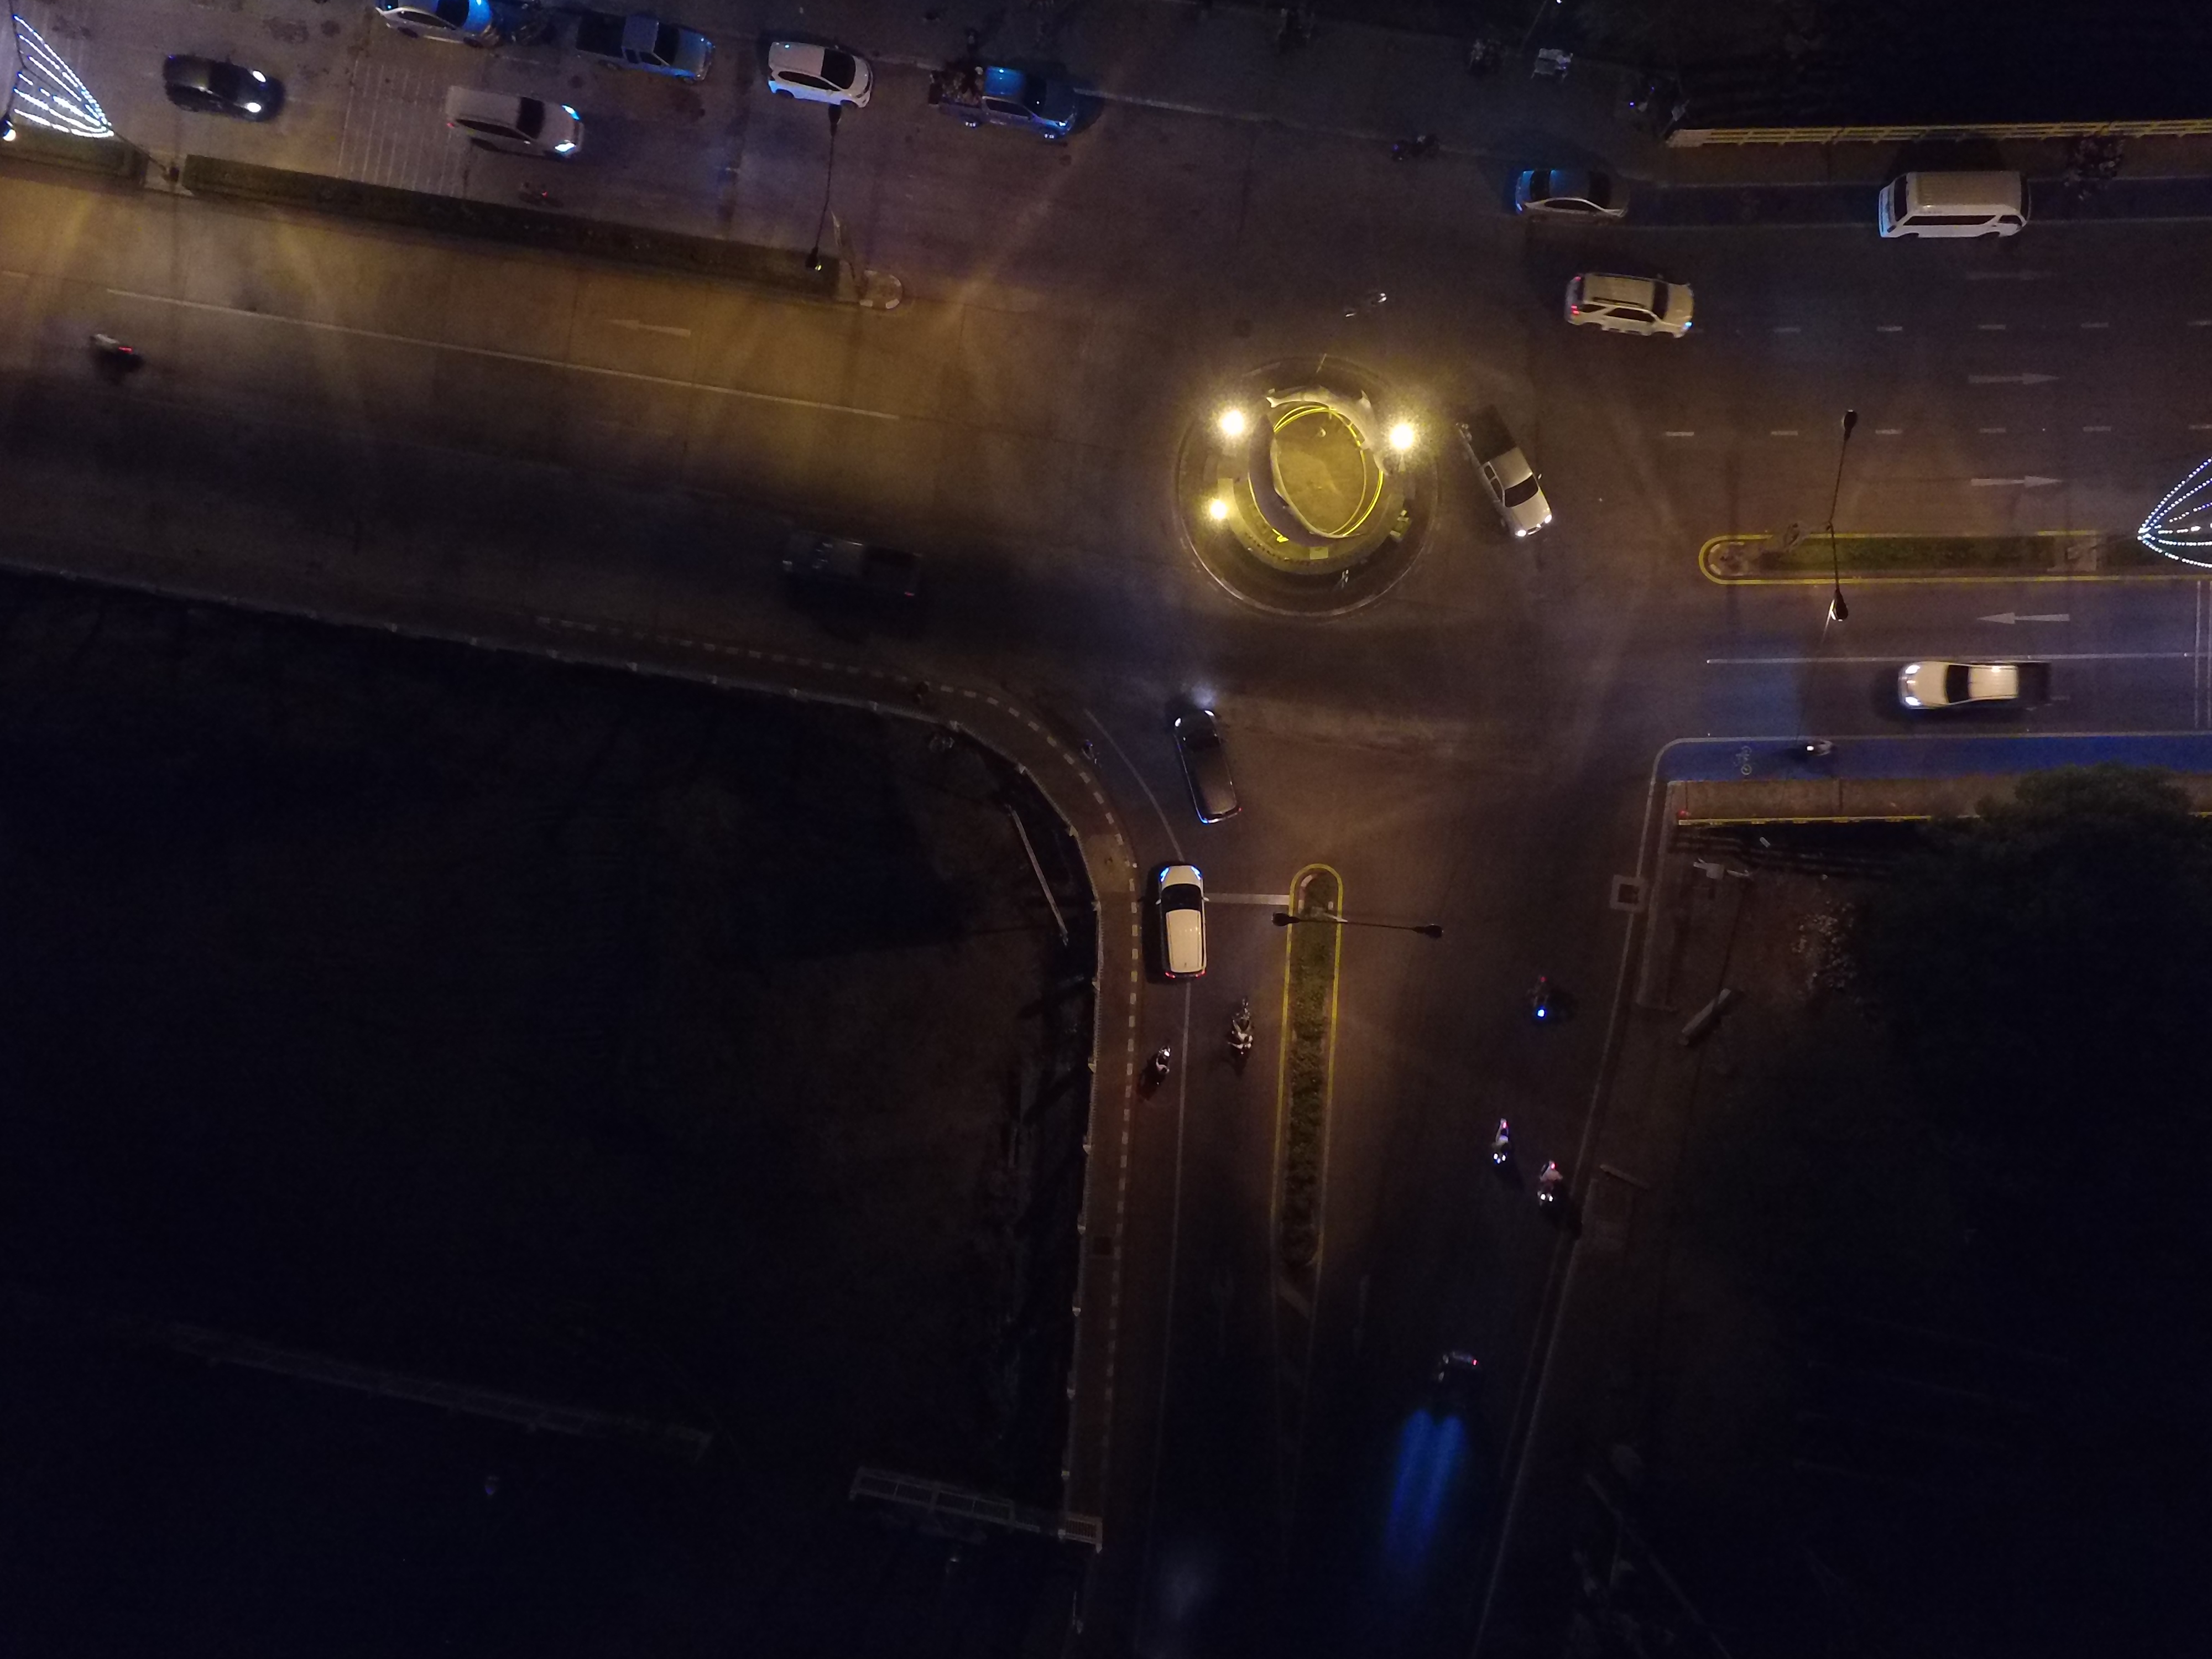car: (1437, 389, 1568, 559), (1892, 620, 2055, 730), (1876, 155, 2040, 263), (145, 38, 294, 143), (1127, 856, 1235, 1000), (1150, 687, 1258, 831), (1500, 145, 1651, 247), (935, 52, 1087, 155), (435, 75, 587, 178), (578, 0, 730, 103), (754, 31, 904, 134), (1557, 261, 1703, 366), (368, 0, 519, 49)
